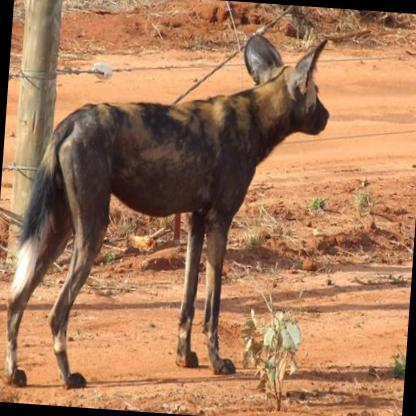African_hunting_dog: (0, 18, 334, 409)
